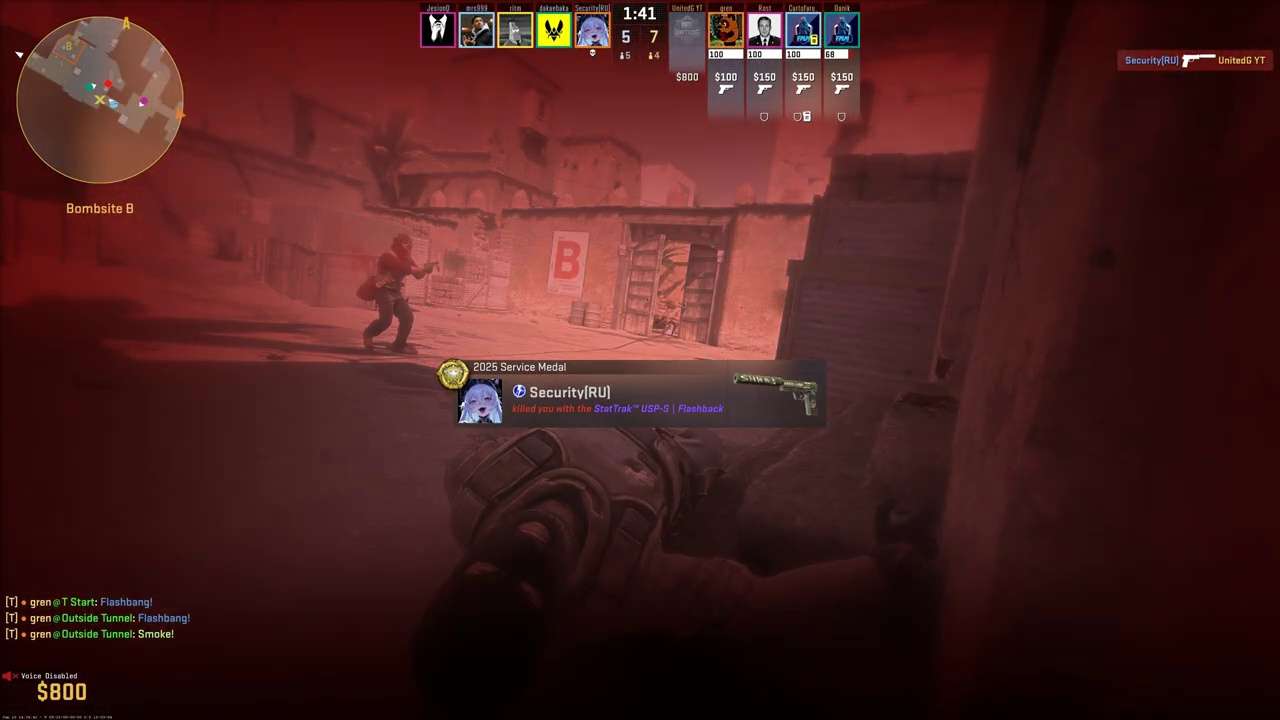Terrorist: (365, 232, 426, 351)
